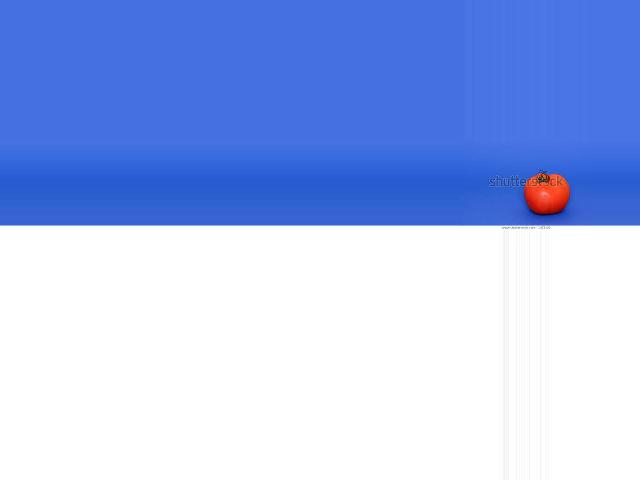tomato: (524, 173, 571, 214)
